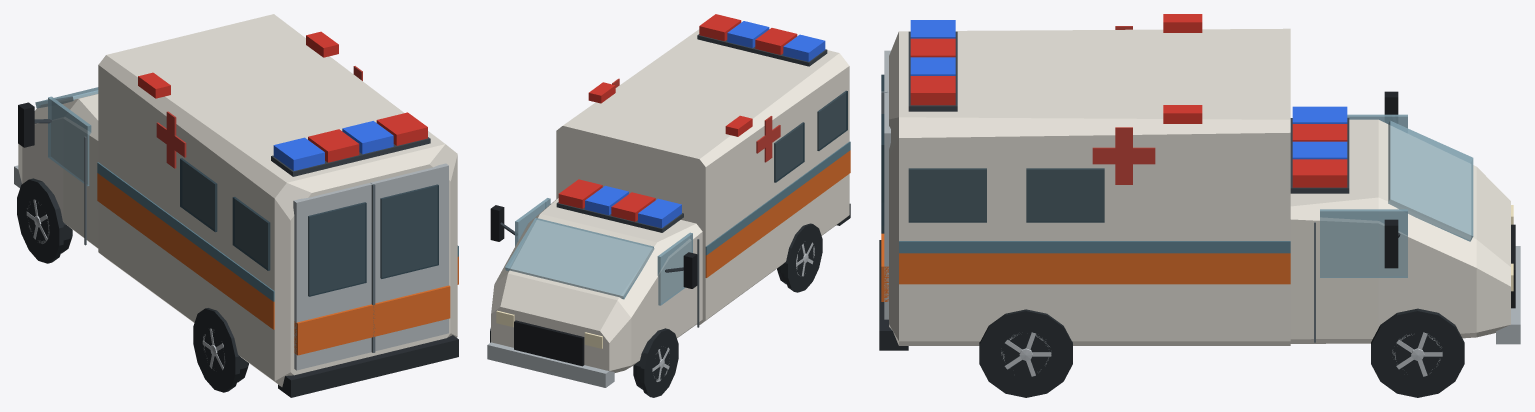
The model's file is LAND_03.obj.
The picture shows the model from 3 angles, left to right: view 1: azimuth 30°, elevation 25°; view 2: azimuth 150°, elevation 25°; view 3: azimuth 270°, elevation 25°; orthographic projection. The views are drawn at different scales.
Visible parts, largest first — view 1: cargo_body, rear_doors, cab, stripe, windows, lightbar, bumpers, wheel_R_L_arch, wheel_F_L, wheel_F_L_arch, wheel_R_L, beacons (+2 smaller); view 2: cargo_body, cab, windows, lightbar, stripe, bumpers, grille, wheel_F_L_arch, wheel_R_L_arch, mirrors, wheel_F_L, beacons (+3 smaller); view 3: cargo_body, cab, windows, stripe, lightbar, wheel_F_R_arch, wheel_R_R_arch, wheel_F_R, wheel_R_R, rear_doors, markings, bumpers (+2 smaller).
Boxes of the visible parts, <box> form: cargo_body: <box>98,14,457,386</box>; rear_doors: <box>293,163,450,370</box>; cab: <box>18,91,98,248</box>; stripe: <box>97,162,458,329</box>; windows: <box>35,87,270,270</box>; lightbar: <box>271,112,430,176</box>; bumpers: <box>14,165,458,397</box>; wheel_R_L_arch: <box>193,308,239,392</box>; wheel_F_L: <box>22,189,72,253</box>; wheel_F_L_arch: <box>17,178,63,263</box>; wheel_R_L: <box>198,318,248,382</box>; beacons: <box>138,31,338,98</box>; cargo_body: <box>556,29,849,324</box>; cab: <box>491,197,702,372</box>; windows: <box>505,90,847,305</box>; lightbar: <box>556,14,827,232</box>; stripe: <box>705,141,850,277</box>; bumpers: <box>487,203,850,387</box>; grille: <box>514,320,584,366</box>; wheel_F_L_arch: <box>640,328,678,397</box>; wheel_R_L_arch: <box>784,223,822,292</box>; mirrors: <box>490,205,697,288</box>; wheel_F_L: <box>633,334,673,389</box>; beacons: <box>588,82,752,136</box>; cargo_body: <box>889,28,1290,345</box>; cab: <box>1290,119,1510,343</box>; windows: <box>908,114,1473,277</box>; stripe: <box>899,241,1290,284</box>; lightbar: <box>908,20,1349,193</box>; wheel_F_R_arch: <box>1371,308,1464,397</box>; wheel_R_R_arch: <box>979,309,1072,397</box>; wheel_F_R: <box>1381,321,1453,387</box>; wheel_R_R: <box>990,321,1062,387</box>; rear_doors: <box>881,50,890,319</box>; markings: <box>1092,26,1155,184</box>; bumpers: <box>879,240,1520,350</box>.
Bounding box in the file's own units: 3.24 × 3.27 × 6.55.
